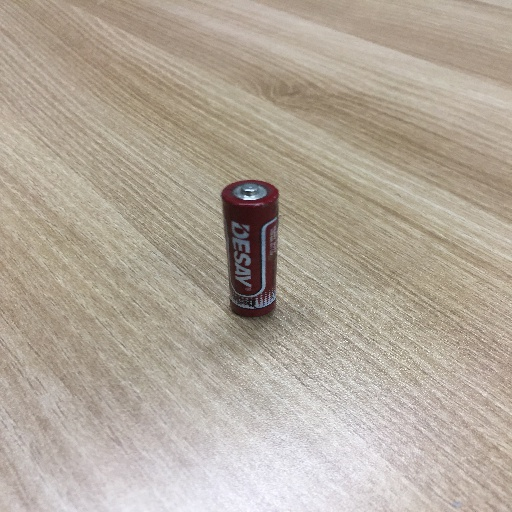Battery_0: (220, 166, 291, 331)
